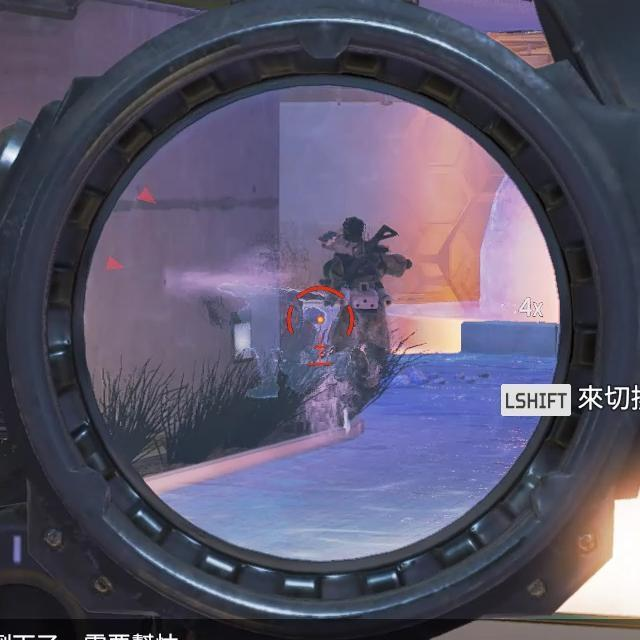avatar: (317, 213, 414, 423)
